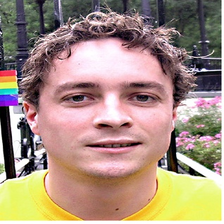no_mask: (42, 47, 174, 177)
